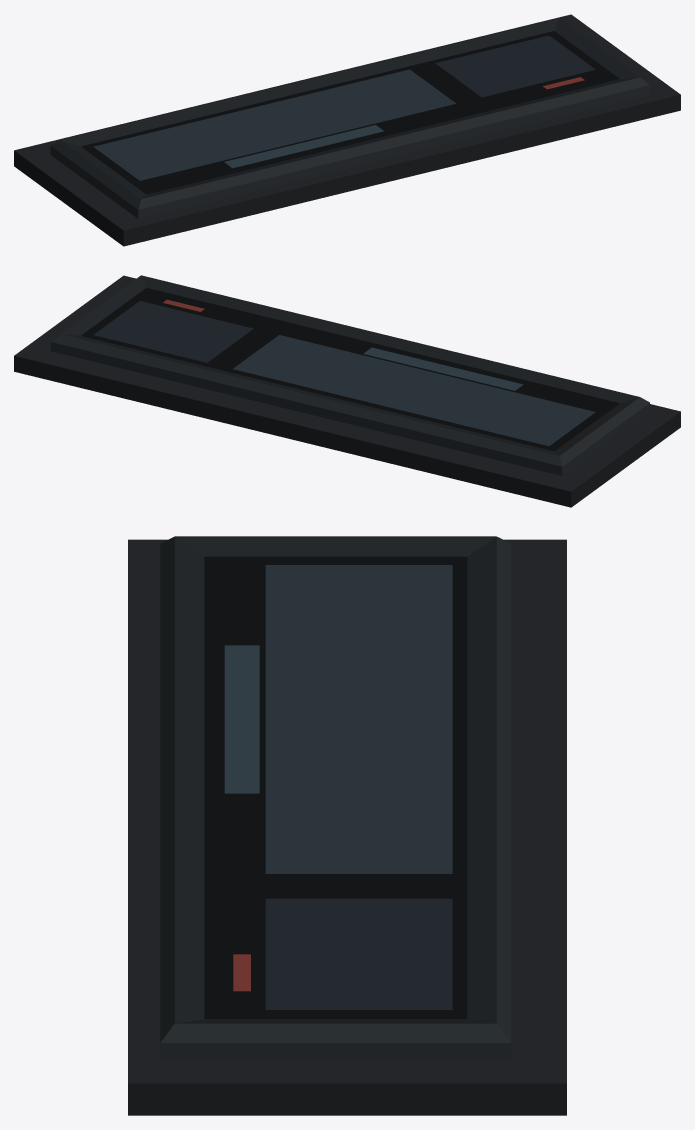
Rendered from lp_keyboard.glb.
3 views of the same model, one above another, from view 1: azimuth 30°, elevation 25°; view 2: azimuth 150°, elevation 25°; view 3: azimuth 270°, elevation 25° (orthographic). The views are drawn at different scales.
Parts seen in each view (by area): view 1: lp_keyboard; view 2: lp_keyboard; view 3: lp_keyboard.
Part boxes in pixels (x1,y1,x2,y2): lp_keyboard: (14,14,680,246); lp_keyboard: (14,275,680,507); lp_keyboard: (128,536,566,1115).
Bounding box in the file's own units: 0.44 × 0.024 × 0.15.
1 material, 1 textured.
